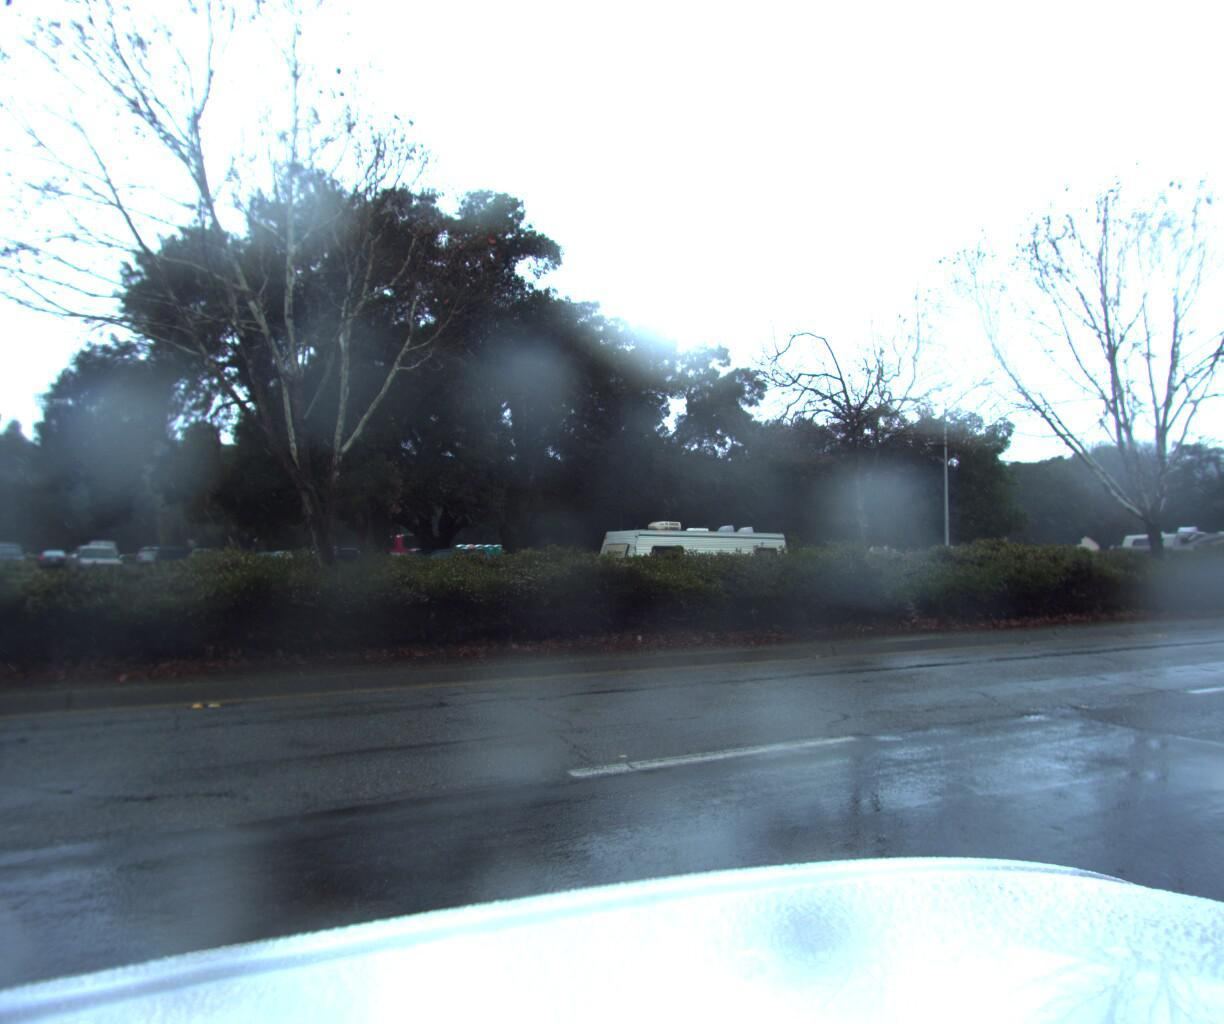car: (371, 548, 528, 603)
other_vehicle: (589, 504, 824, 605), (1114, 513, 1224, 578)
